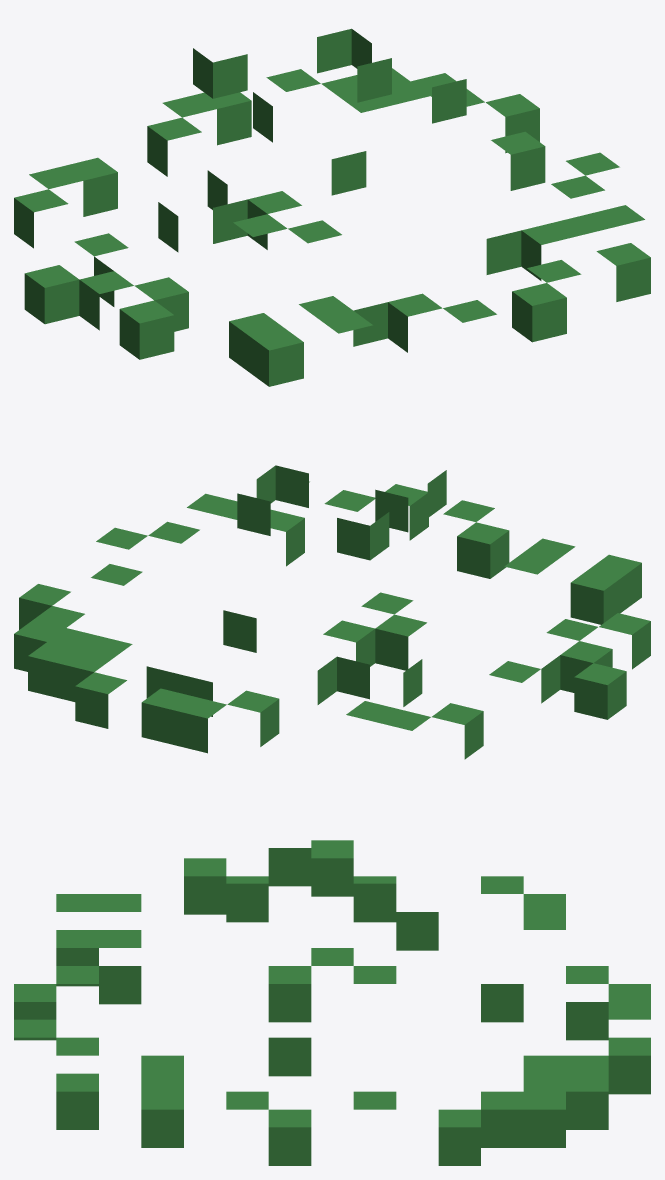
The model's file is tree-pine-1p2-3f8b45.gltf.
The picture shows the model from 3 angles, top to bottom: view 1: azimuth 30°, elevation 25°; view 2: azimuth 150°, elevation 25°; view 3: azimuth 270°, elevation 25°; orthographic projection. The views are drawn at different scales.
Visible parts, largest first — view 1: tree-pine-1p2-3f8b45; view 2: tree-pine-1p2-3f8b45; view 3: tree-pine-1p2-3f8b45.
Boxes of the visible parts, <box> form: tree-pine-1p2-3f8b45: <box>14,28,650,386</box>; tree-pine-1p2-3f8b45: <box>14,465,650,759</box>; tree-pine-1p2-3f8b45: <box>14,840,650,1165</box>.
Bounding box in the file's own units: 16 × 5 × 15.
